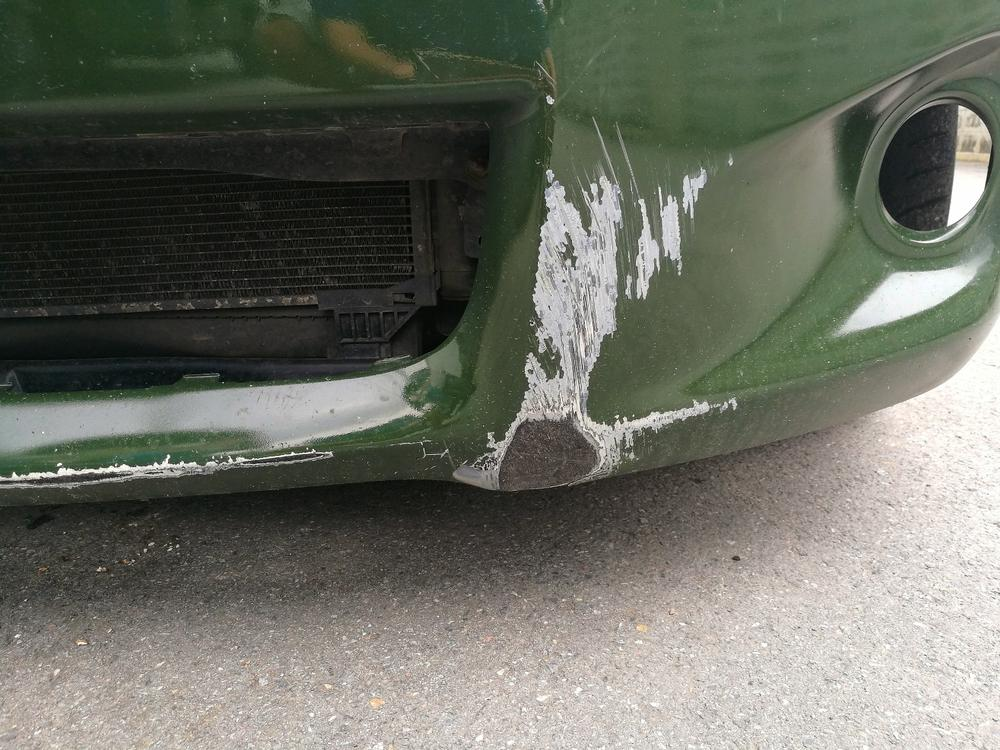scratch: (421, 112, 744, 493), (0, 440, 341, 497)
